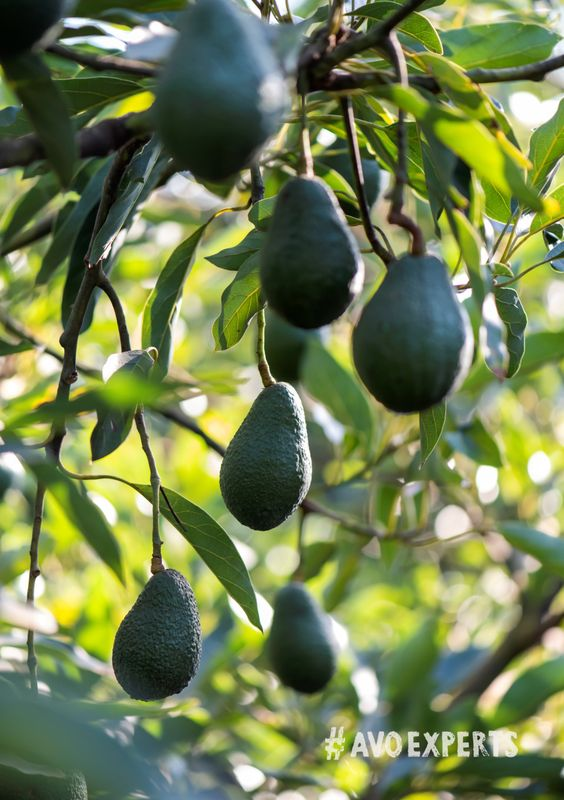unfit_avocado: (150, 1, 288, 195), (347, 233, 472, 439), (252, 164, 385, 341), (214, 378, 329, 535), (100, 560, 213, 704), (243, 574, 356, 715)
